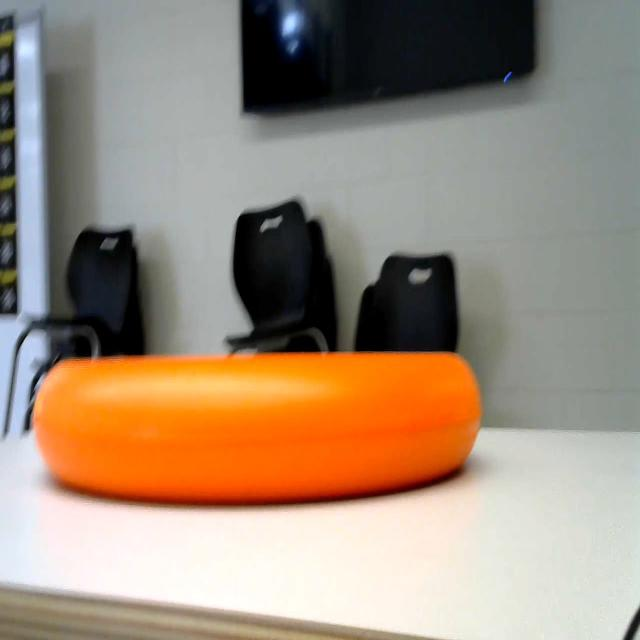note: (20, 346, 504, 496)
